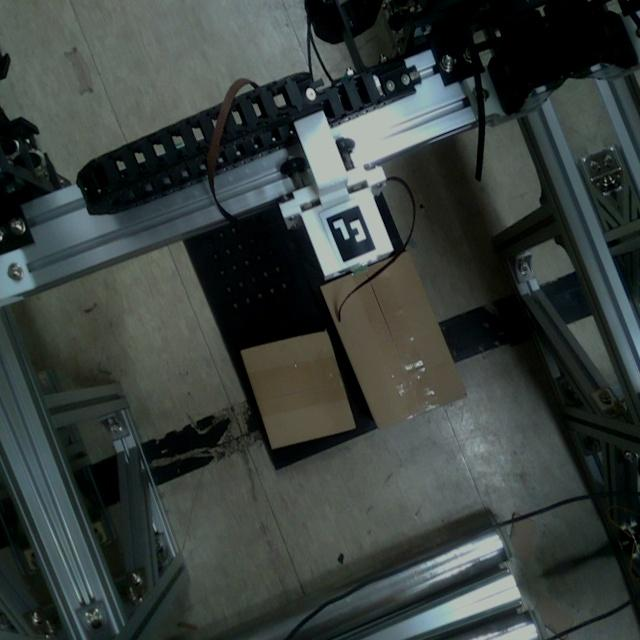box: (315, 251, 473, 433), (236, 323, 360, 454)
